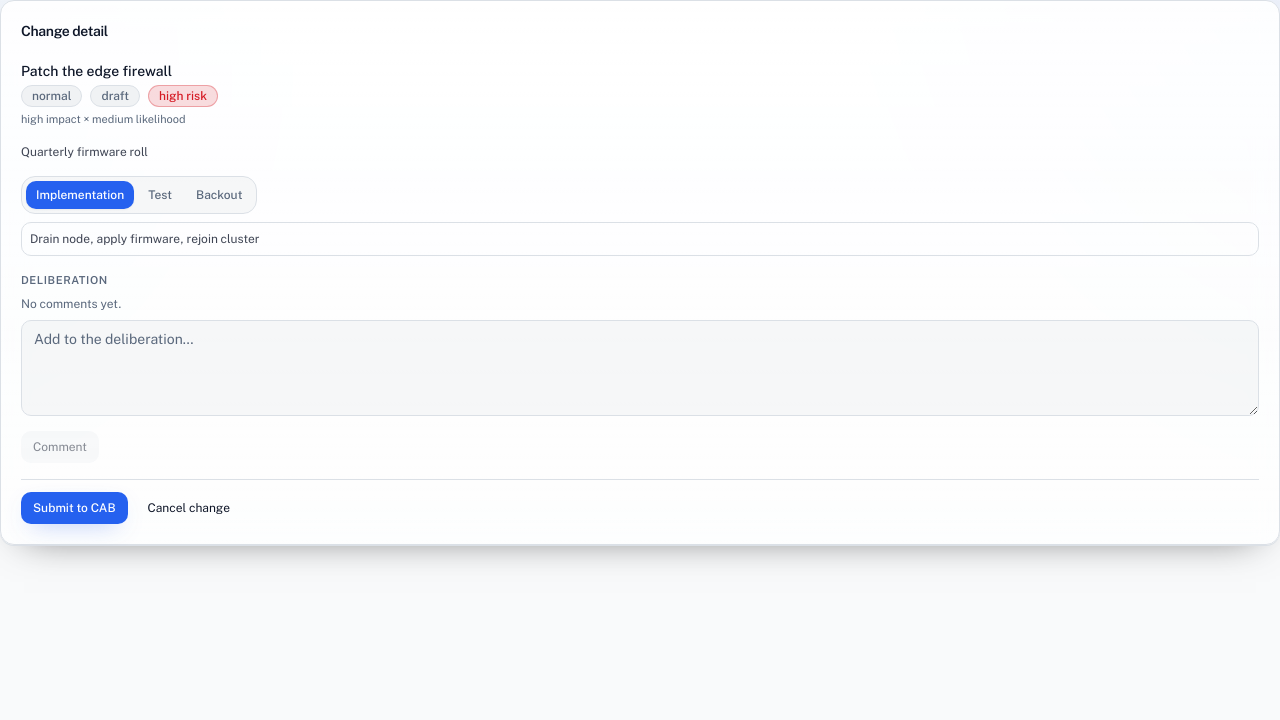
Test case: ChangeDetail › surfaces a refused lifecycle action instead of silently doing nothing
Click the button "Submit to CAB": point(74, 508) [21,492,128,524]
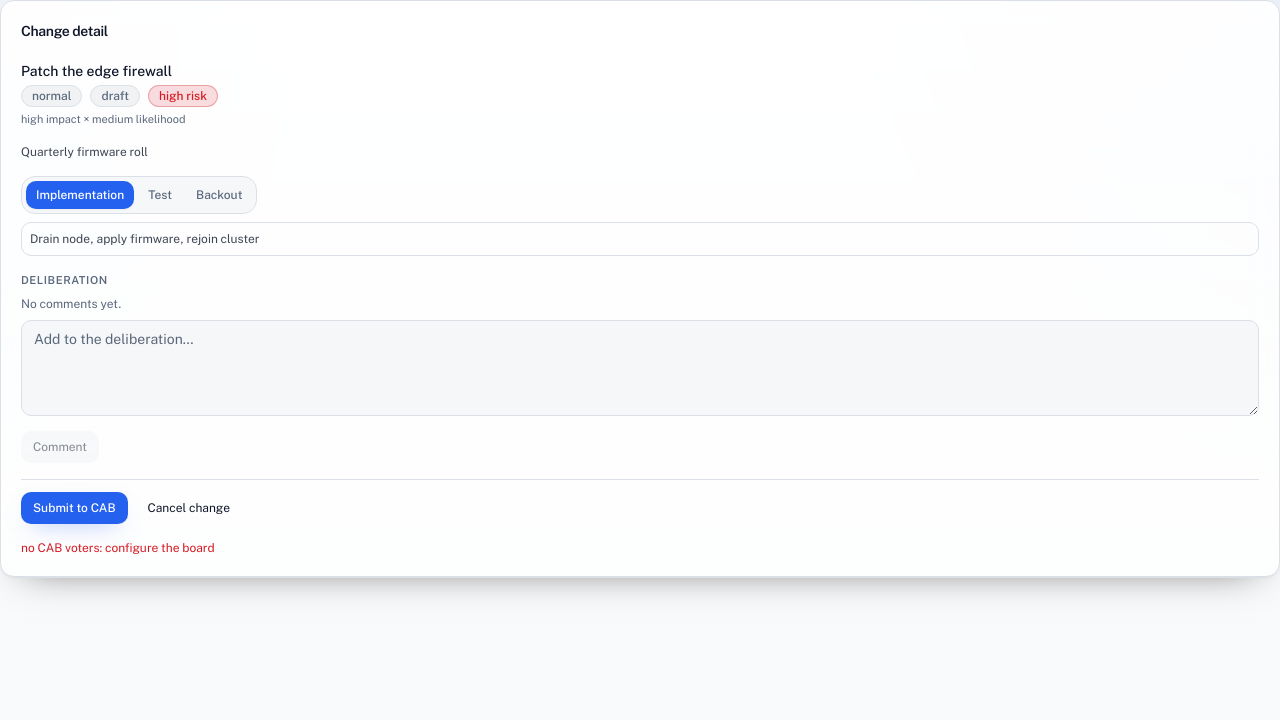
Result: the text "no CAB voters: configure the board" is shown at [21,541,215,555]
